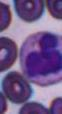N: (18, 31, 62, 86)
